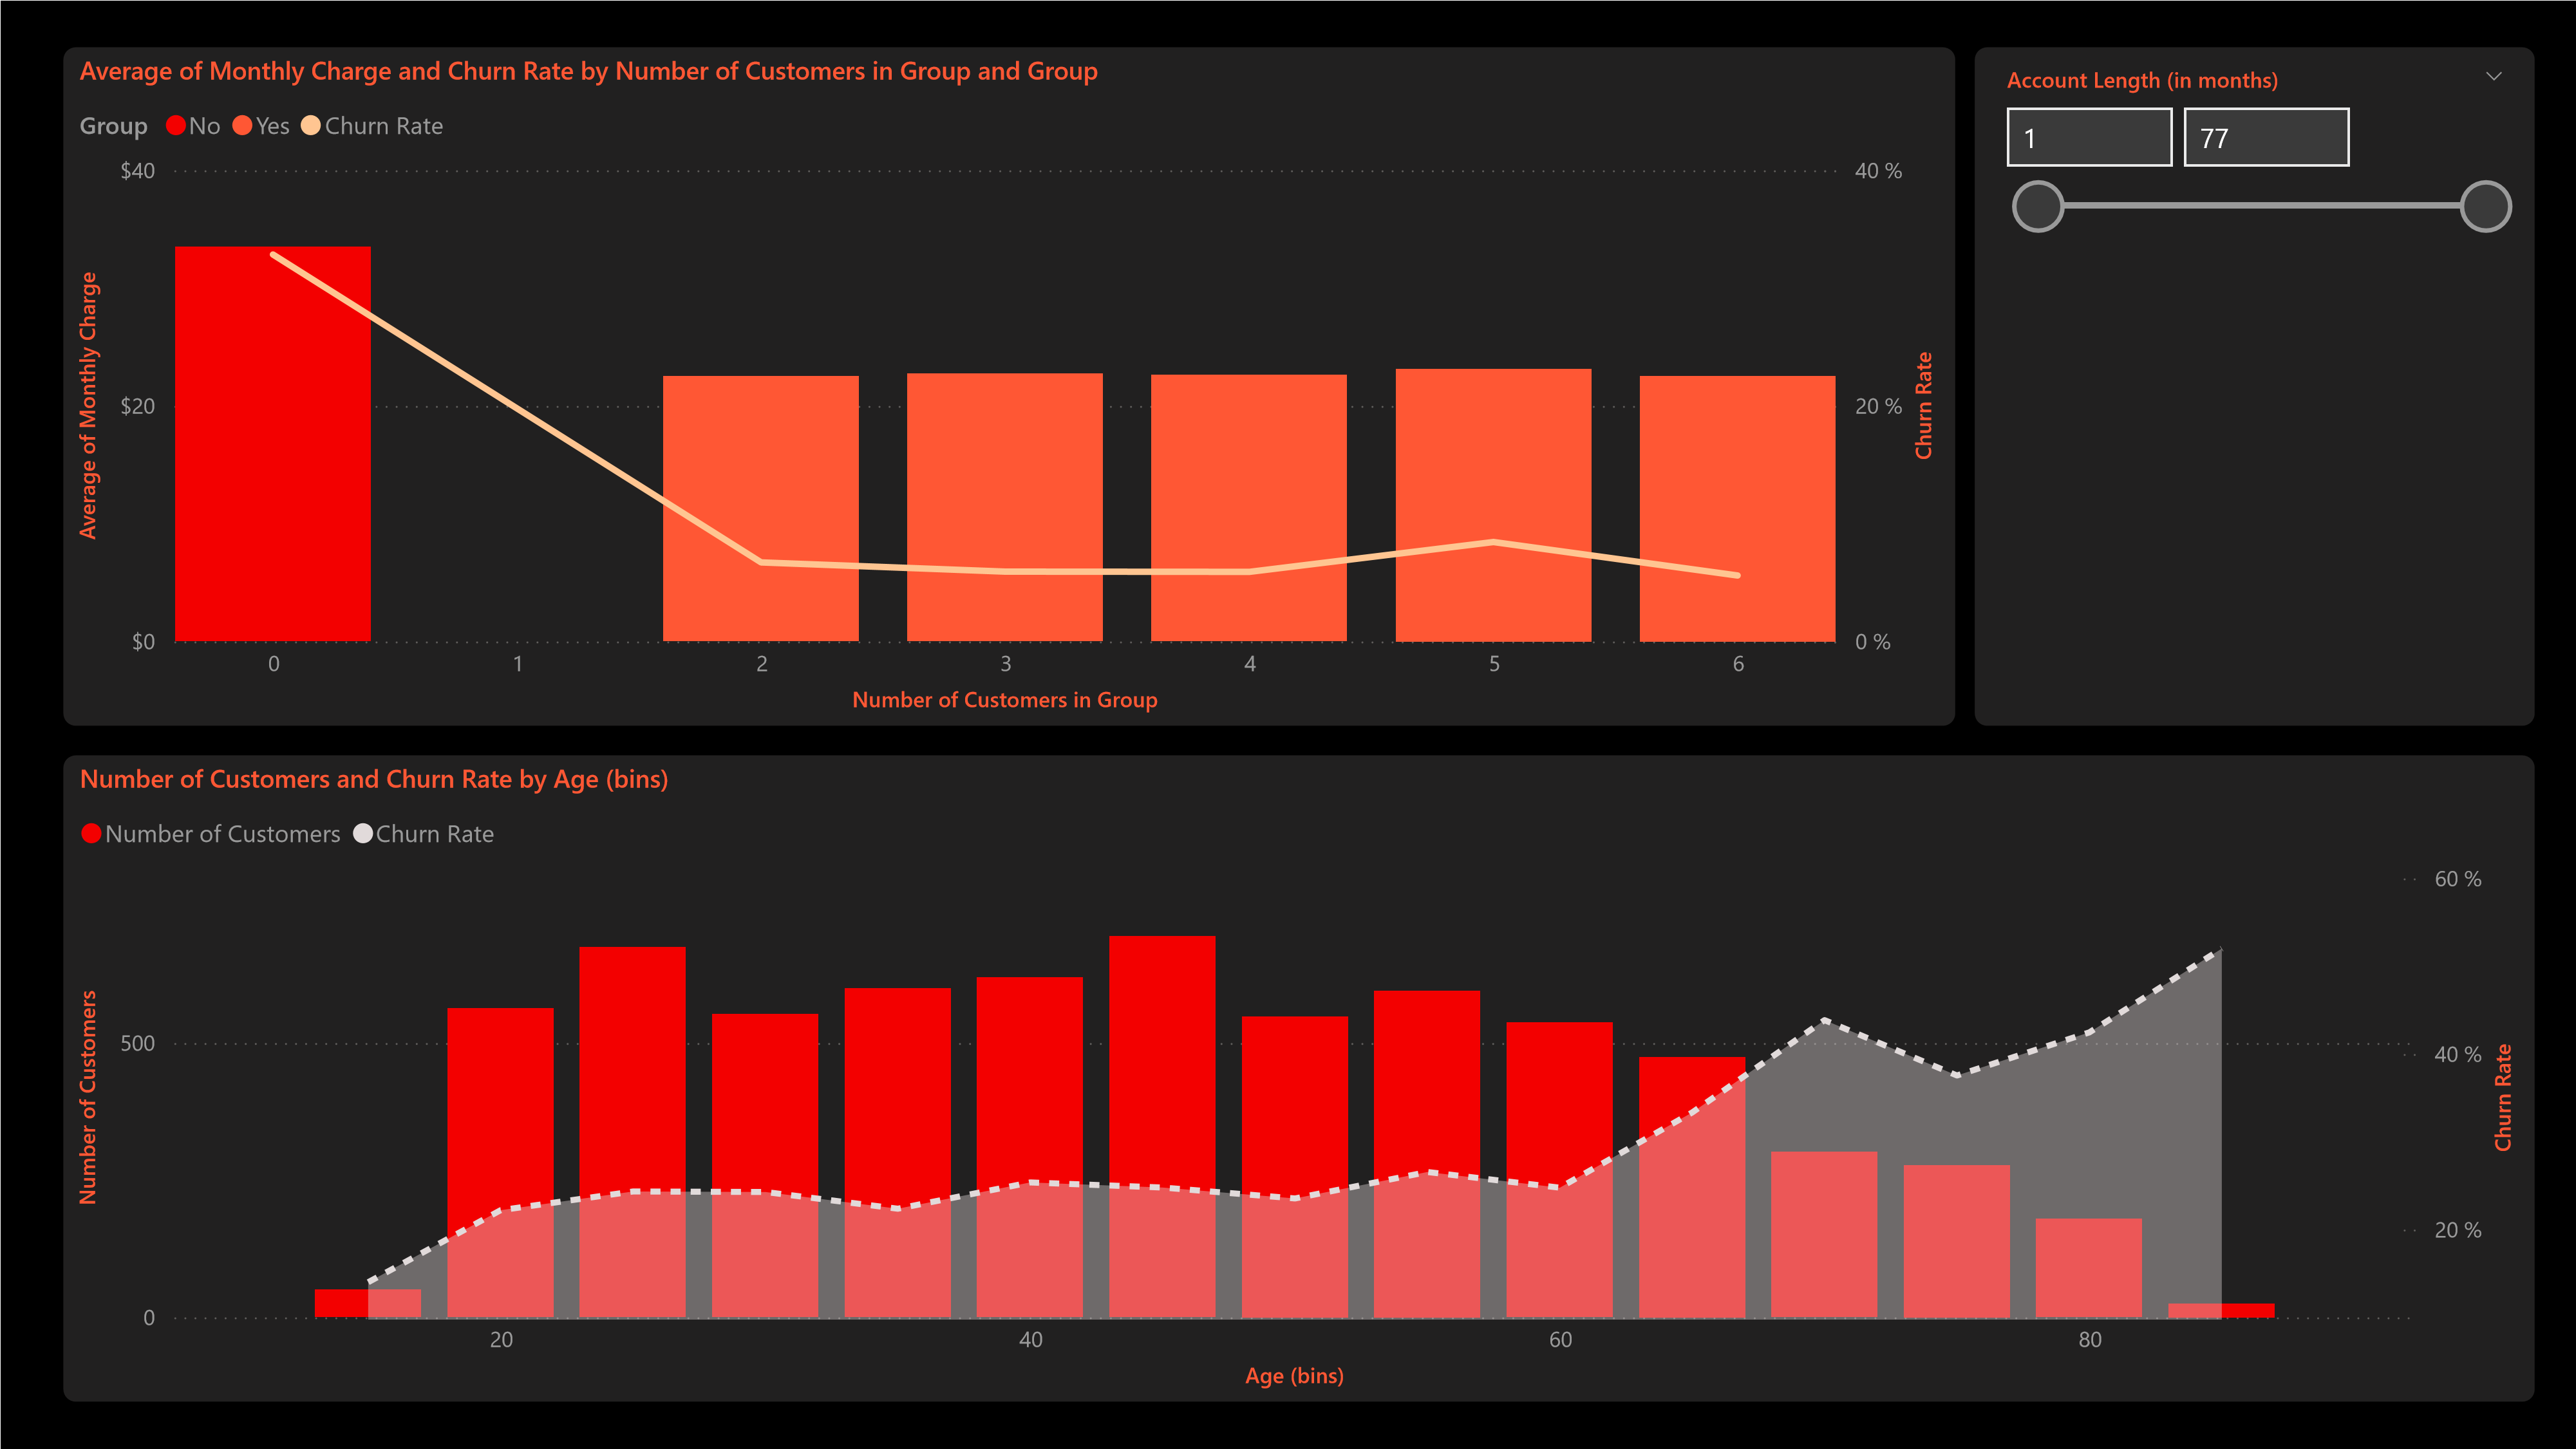

What the dashboard file says about the page in this screenshot:
{"tool":"powerbi","page":{"name":"Age Groups","canvas":[1280,720],"ordinal":6},"visuals":[{"type":"lineStackedColumnComboChart","fields":{"Category":["Databel - Data.Age (bins)"],"Y":["Databel - Data.Number of costumers"],"Y2":["Databel - Data.Churn Rate"]},"box":[31.4,374.6,1227.1,321],"z":0},{"type":"slicer","fields":{"Values":["Databel - Data.Account Length (in months)"]},"box":[981.1,23.3,277.4,337.2],"z":1000},{"type":"lineStackedColumnComboChart","fields":{"Category":["Databel - Data.Number of Customers in Group"],"Y":["Avg(Databel - Data.Monthly Charge)"],"Series":["Databel - Data.Group"],"Y2":["Databel - Data.Churn Rate"]},"box":[31.4,23.3,939.6,337.2],"z":2000}]}

Visuals, with their boxes in screenshot pixels (x1, y1, x2, y2), scaled from the page's 1280x720 canvas onto the 2576x1449 screenshot:
lineStackedColumnComboChart - Databel - Data.Age (bins) x Databel - Data.Number of costumers: Rect(63, 754, 2533, 1400)
slicer - Databel - Data.Account Length (in months): Rect(1975, 47, 2533, 725)
lineStackedColumnComboChart - Databel - Data.Number of Customers in Group x Avg(Databel - Data.Monthly Charge): Rect(63, 47, 1954, 725)
